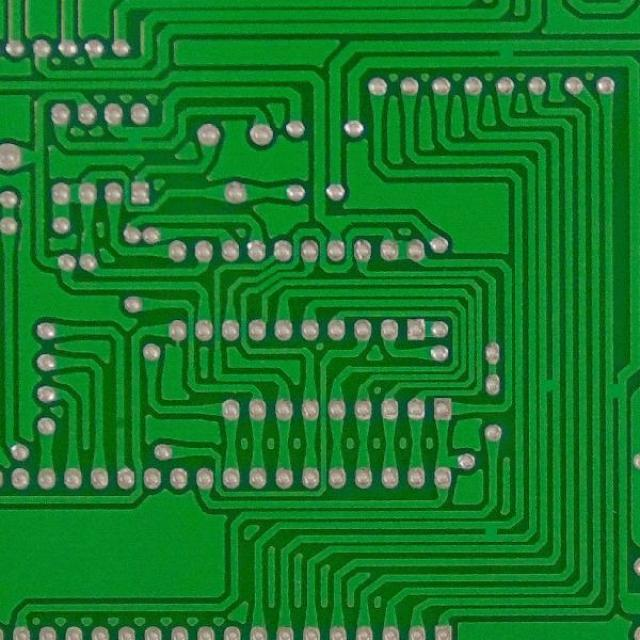short: (488, 38, 524, 68), (474, 520, 508, 545), (121, 125, 147, 152), (537, 371, 562, 398), (604, 380, 632, 402)
